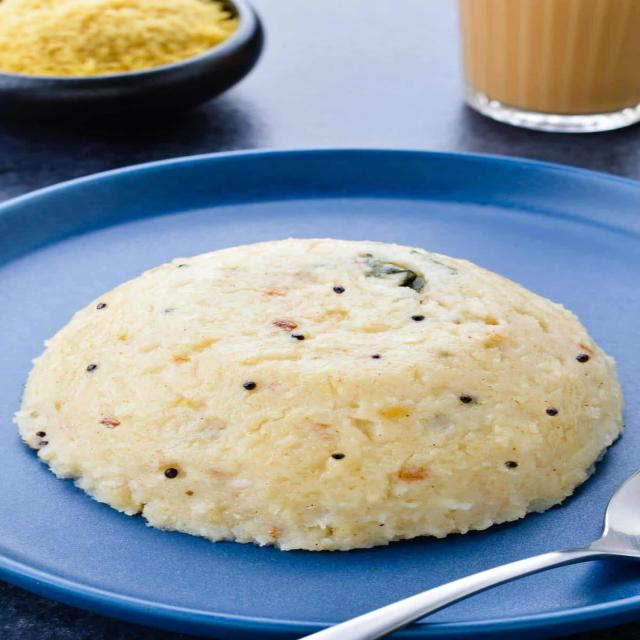upma: (0, 220, 640, 562)
